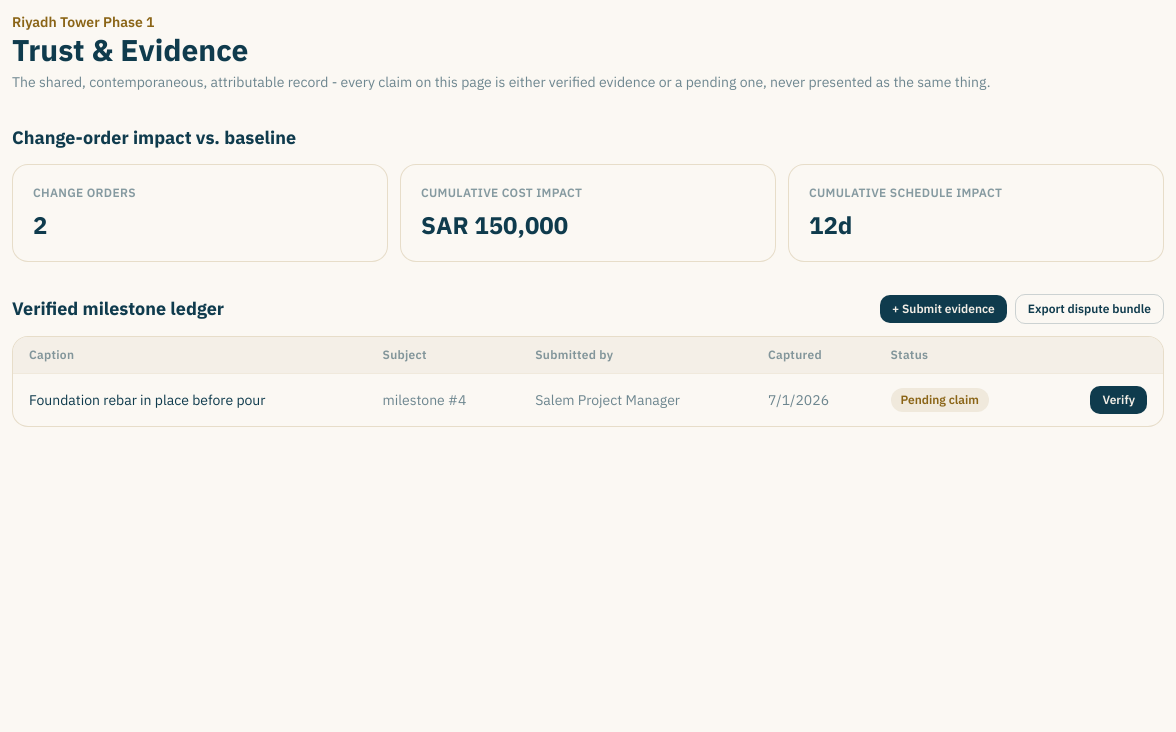
it: TrustEvidencePage › shows inline field errors instead of submitting an empty form
This screenshot has width=1176, height=732.
Expected: the text "Foundation rebar in place before pour" is shown, [13,374,366,426]
Click the button "+ Submit evidence".
click(943, 309)  # box [880,295,1007,323]
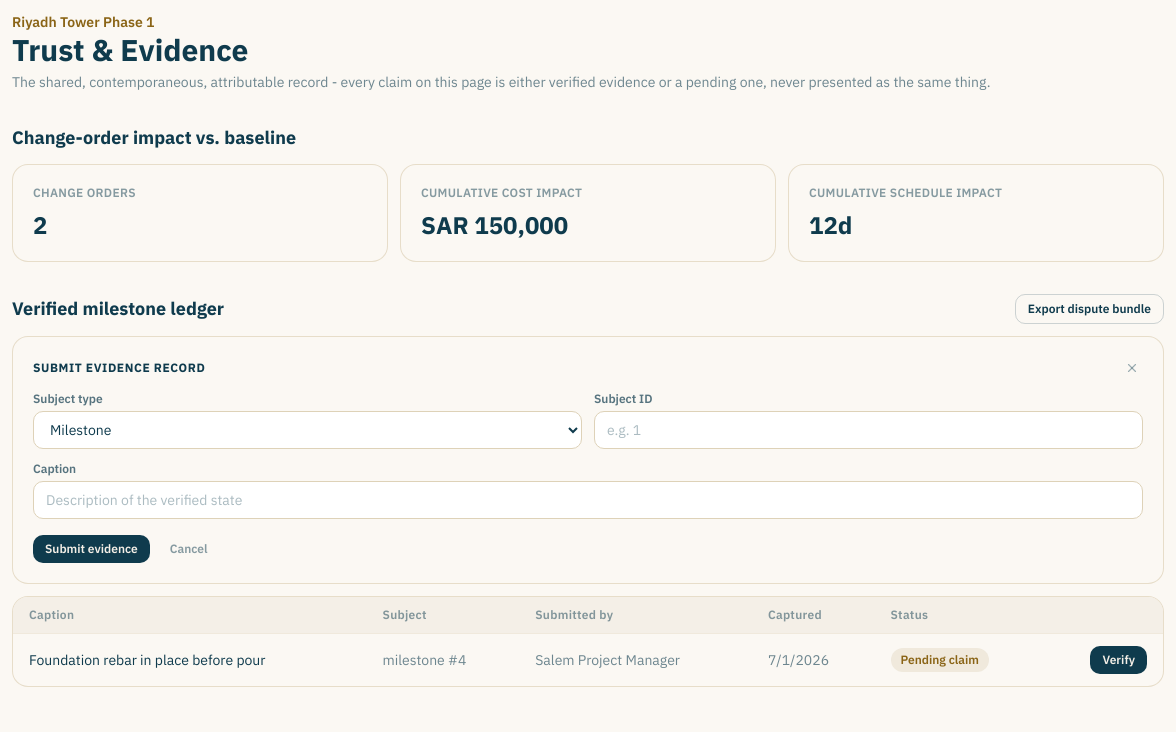
Click the button "Submit evidence".
click(91, 549)  # box [33,535,150,563]
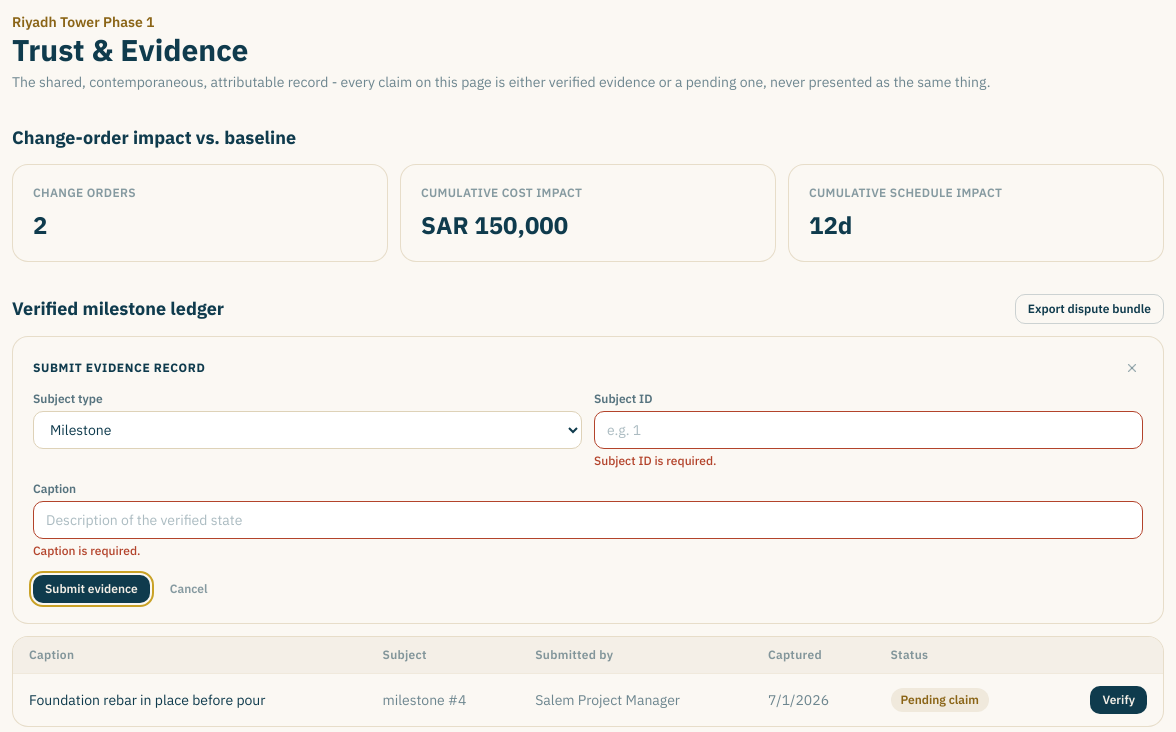
Now the text "Subject ID is required." is shown, box [594,453,716,468]
Now the text "Caption is required." is shown, box [33,543,140,558]
